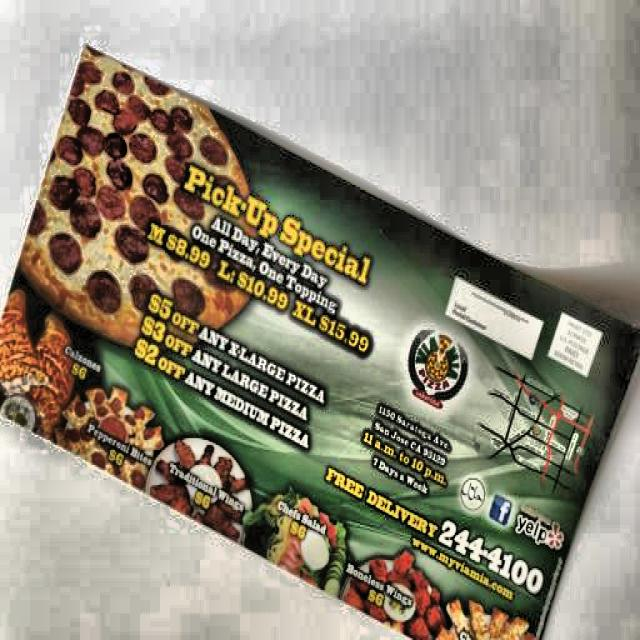paper: (0, 34, 640, 626)
